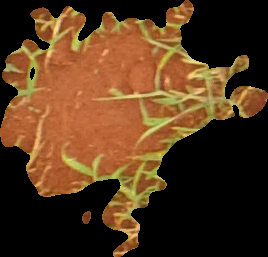soil: (2, 1, 268, 255)
